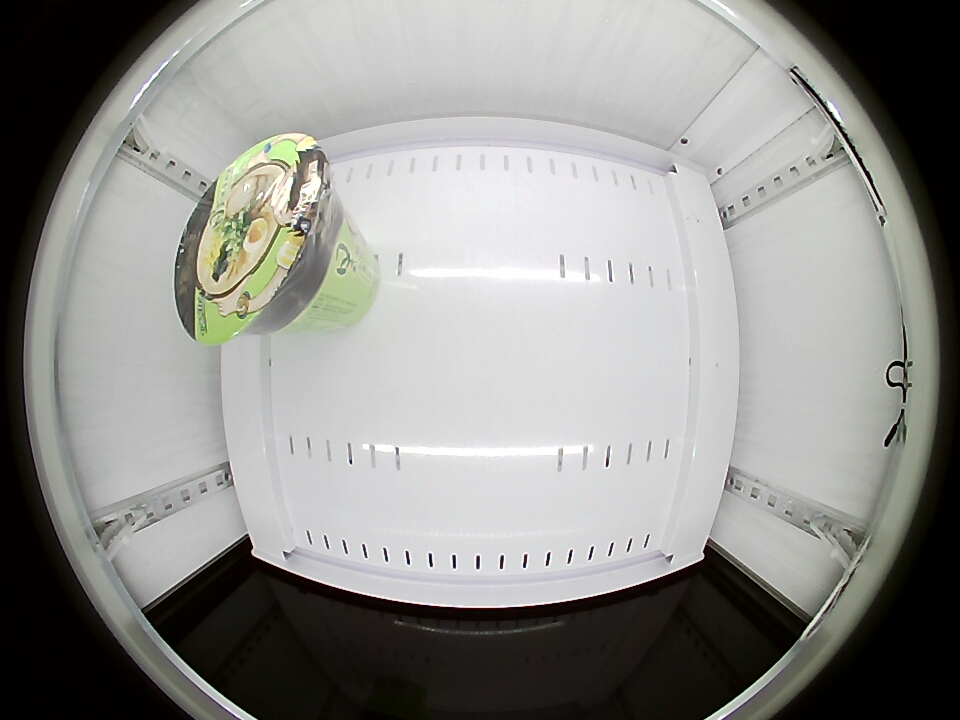tangdaren: (173, 133, 339, 344)
